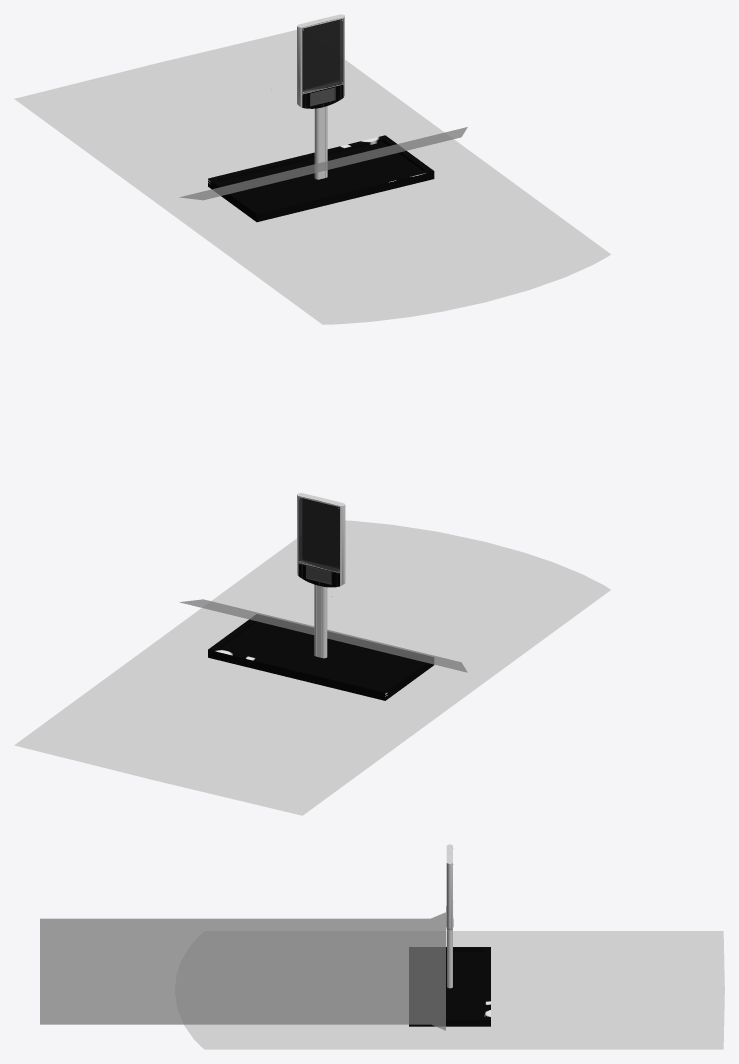
The model's file is Reloj_Digital.glb.
3 views of the same model, one above another, from view 1: azimuth 30°, elevation 25°; view 2: azimuth 150°, elevation 25°; view 3: azimuth 270°, elevation 25° (orthographic). The views are drawn at different scales.
Visible parts, largest first — view 1: Tapa_1_1, area_reloj_4, area_reloj_2, cara_animada_2, cara_fija_2, cara_fija, base_reloj, frente_reloj; view 2: Tapa_1_1, area_reloj_2, area_reloj_4, cara_animada, cara_fija_2, cara_fija, base_reloj, frente_reloj; view 3: Tapa_1_1, cara_fija, cara_fija_2, area_reloj_4, area_reloj_2, frente_reloj, base_reloj.
Boxes of the visible parts, x1,y1,x2,y2 form: Tapa_1_1: (14, 30, 610, 324); area_reloj_4: (228, 135, 433, 200); area_reloj_2: (208, 139, 434, 222); cara_animada_2: (302, 18, 343, 93); cara_fija_2: (180, 127, 467, 199); cara_fija: (179, 127, 467, 200); base_reloj: (314, 106, 327, 179); frente_reloj: (297, 14, 344, 107); Tapa_1_1: (14, 520, 610, 815); area_reloj_2: (217, 618, 433, 696); area_reloj_4: (208, 614, 434, 700); cara_animada: (298, 497, 339, 573); cara_fija_2: (179, 599, 466, 671); cara_fija: (180, 599, 467, 672); base_reloj: (314, 584, 327, 658); frente_reloj: (297, 493, 345, 586); Tapa_1_1: (175, 931, 724, 1049); cara_fija: (40, 912, 445, 1030); cara_fija_2: (40, 913, 445, 1030); area_reloj_4: (409, 949, 490, 1026); area_reloj_2: (409, 947, 490, 1001); frente_reloj: (446, 844, 452, 930); base_reloj: (447, 930, 452, 988).
Size of the model in its own units: 55.87 by 31.38 by 141.
Materials: 12 (10 with a texture image).
